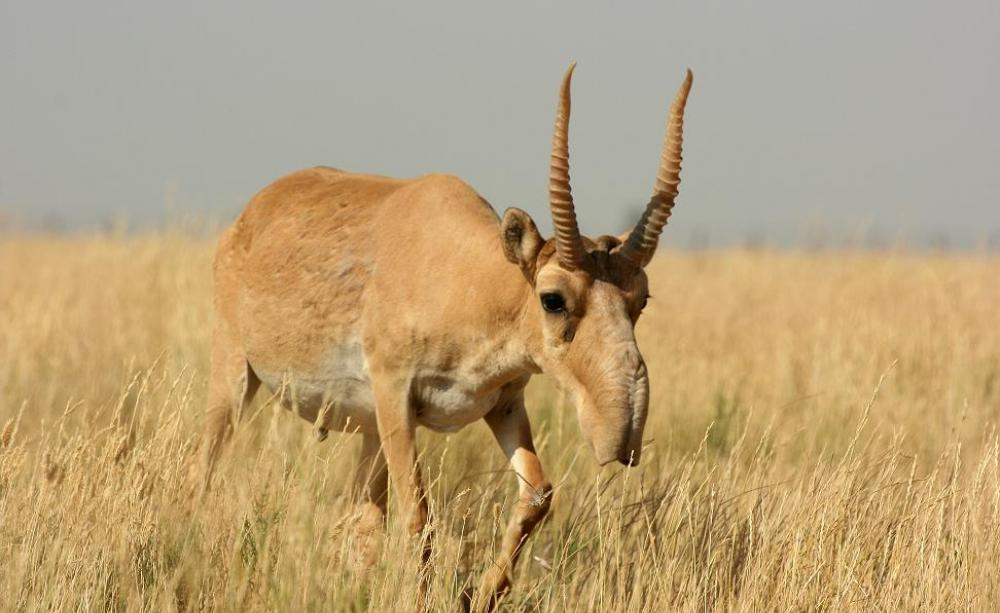saiga: (204, 65, 702, 612)
